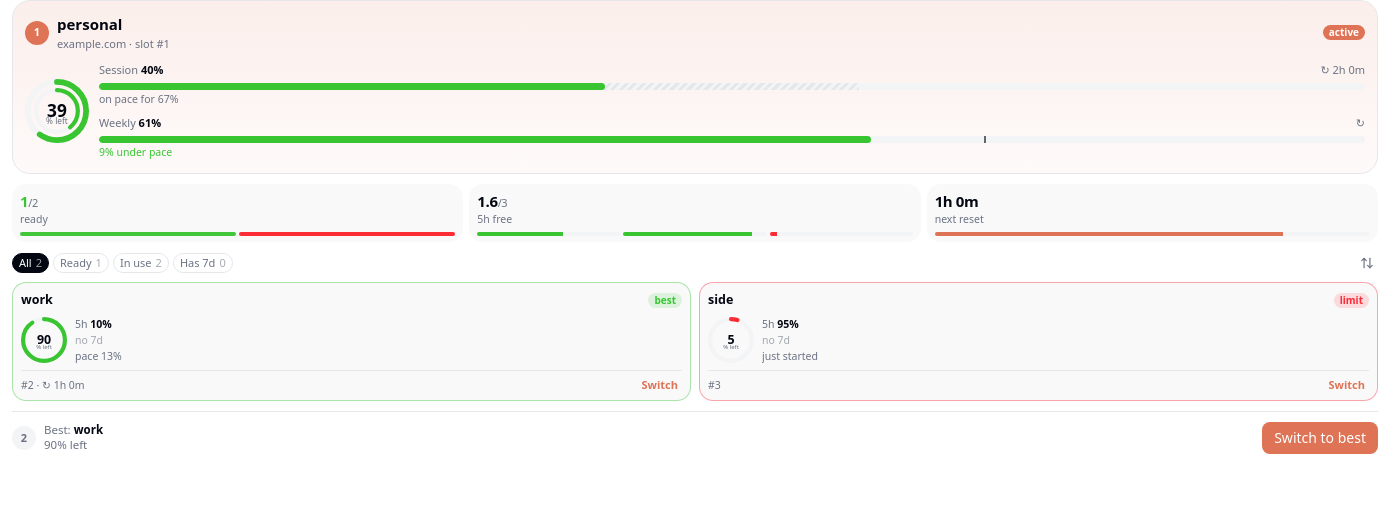
Test: AccountList › switches through the app command, refreshes, and offers undo
Click the button with aria-label "Switch to side" at (1347, 386), box [1324,375,1369,396]
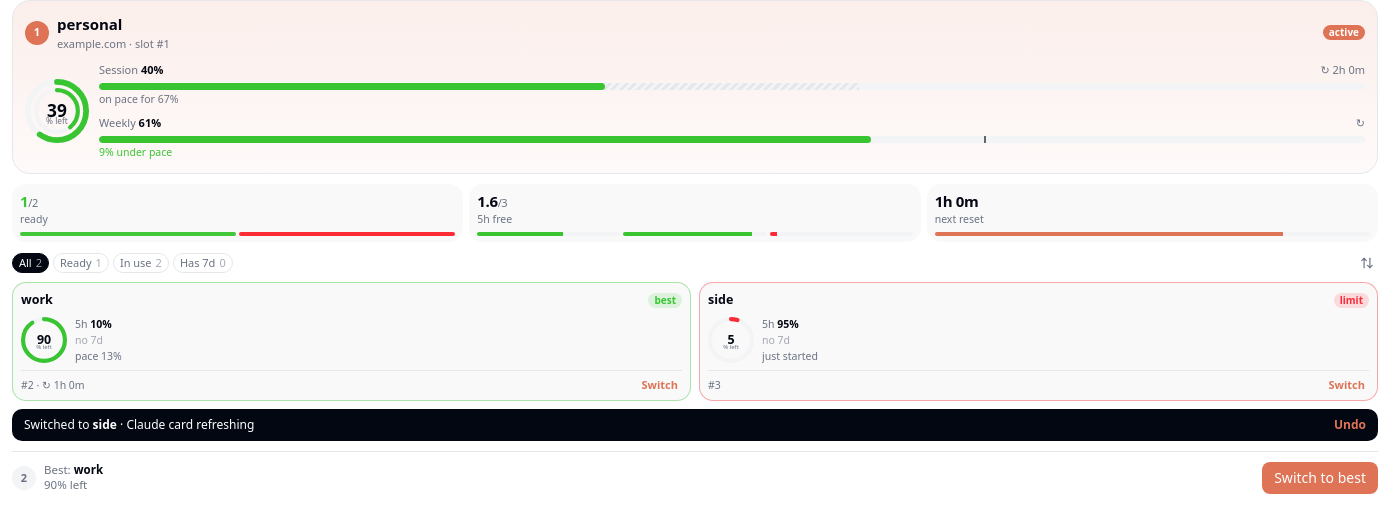
Result: the message shows "Switched to side" at [12,409,1378,441]
Result: the button "Undo" is shown at [1334,417,1366,433]
